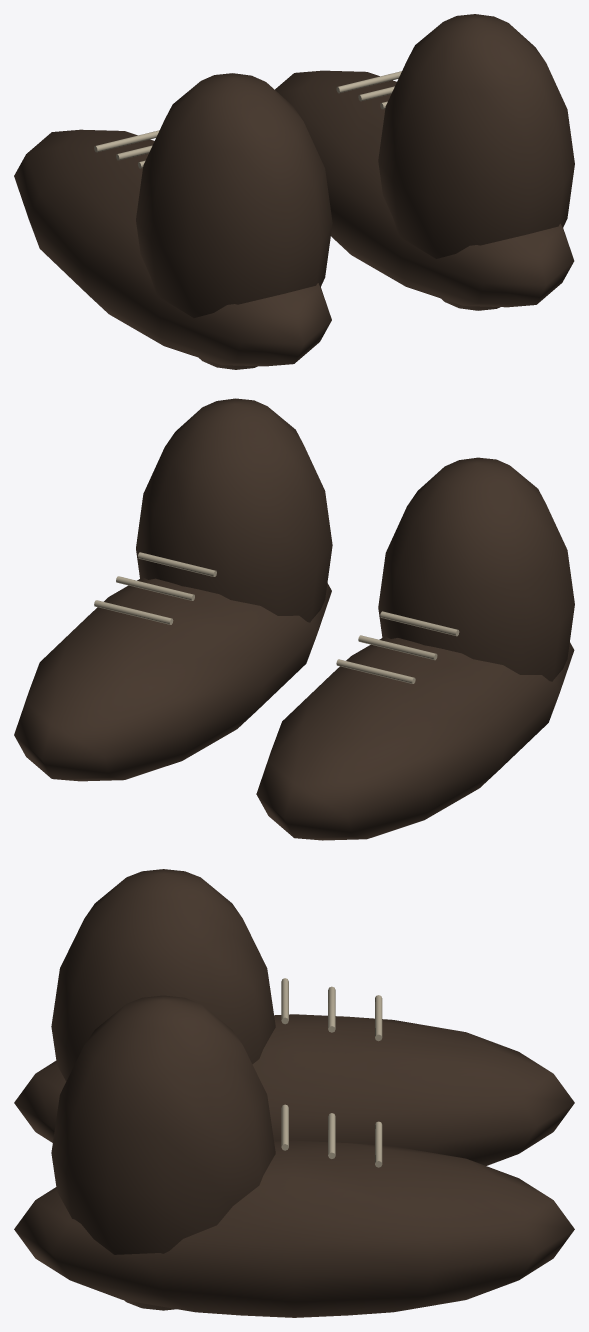
File: prop-shoes-pair-v01.glb
3 views of the same model, one above another, from view 1: azimuth 30°, elevation 25°; view 2: azimuth 150°, elevation 25°; view 3: azimuth 270°, elevation 25° (orthographic). The views are drawn at different scales.
Visible parts, largest first — view 1: shoes-pair; view 2: shoes-pair; view 3: shoes-pair.
Part boxes in pixels (x1,y1,x2,y2): shoes-pair: (14,14,574,369); shoes-pair: (14,398,574,840); shoes-pair: (14,869,574,1317).
Bounding box in the file's own units: 0.28 × 0.18 × 0.3.
